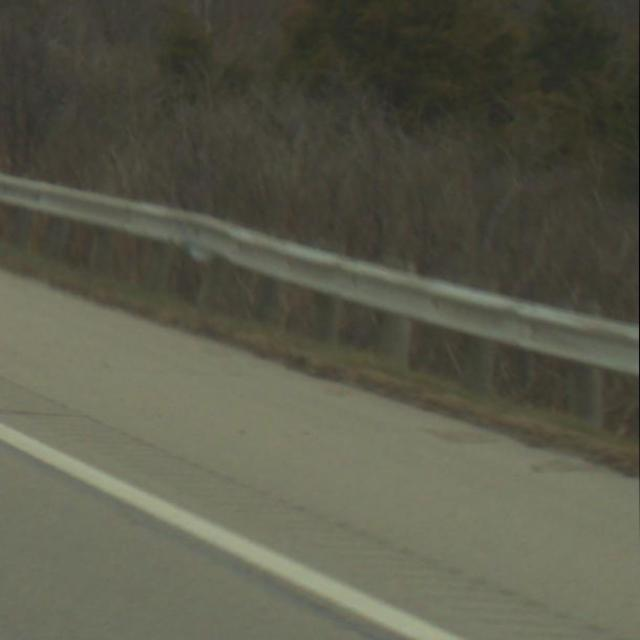Guard rail: (0, 163, 640, 450)
